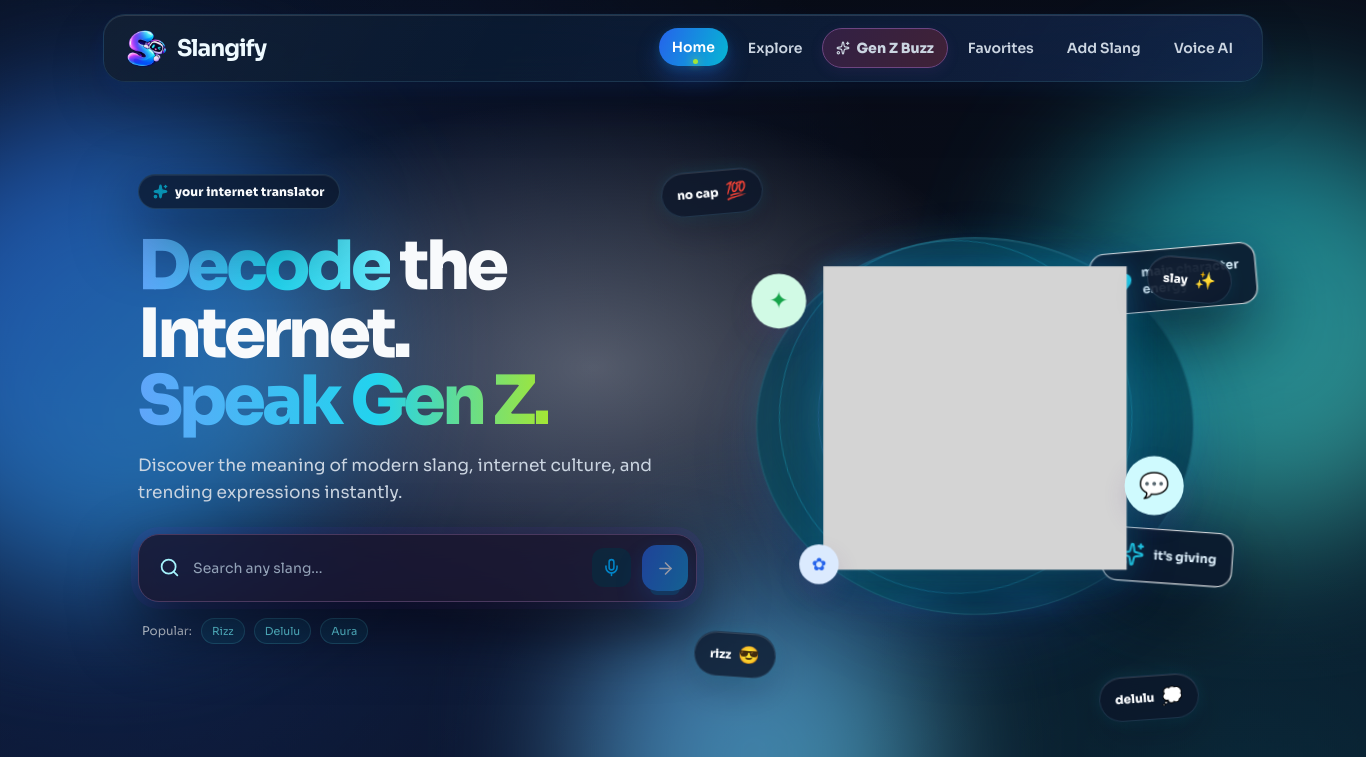
Scenario: Gen Z Buzz navigates to its dedicated page and becomes active
Click the link "Gen Z Buzz": click(885, 48) [822, 28, 948, 68]
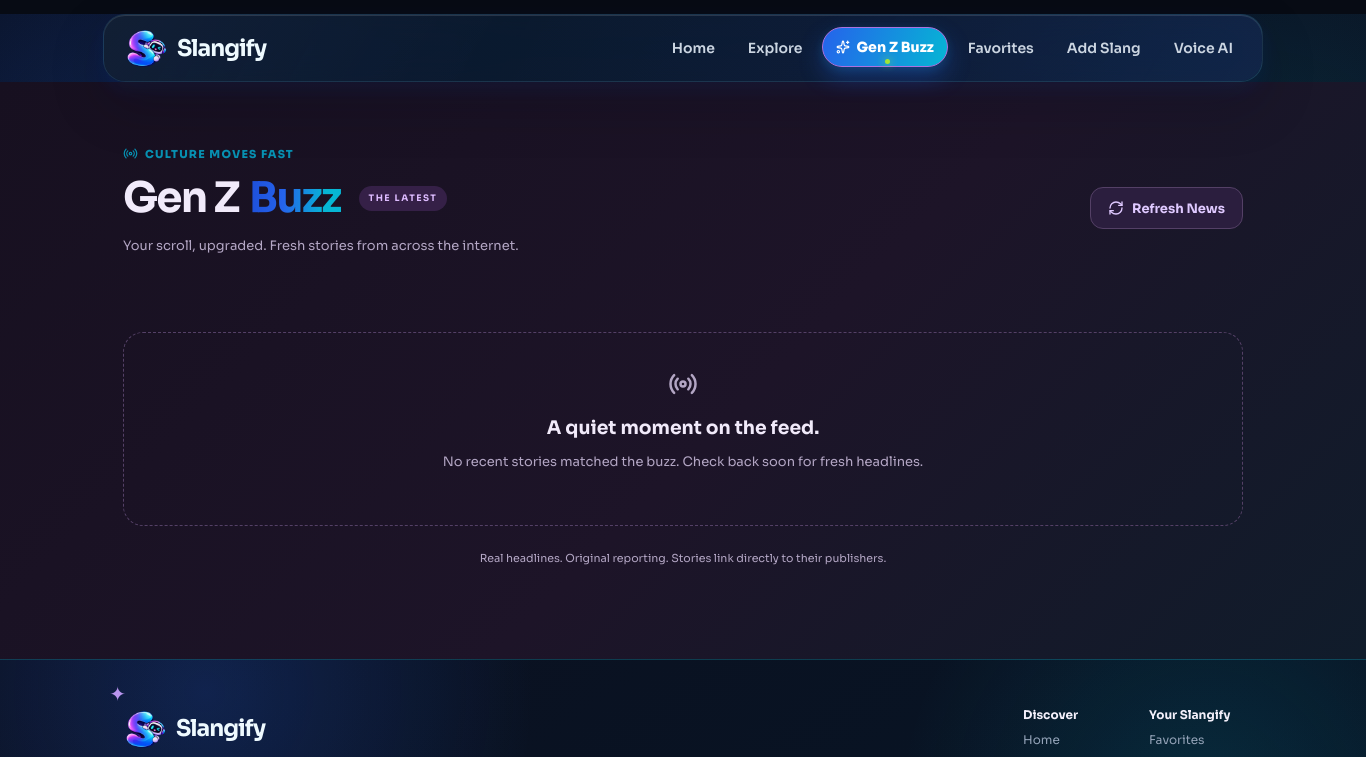
expect the heading "Gen Z Buzz THE LATEST" is shown: met, box [123, 171, 447, 224]
